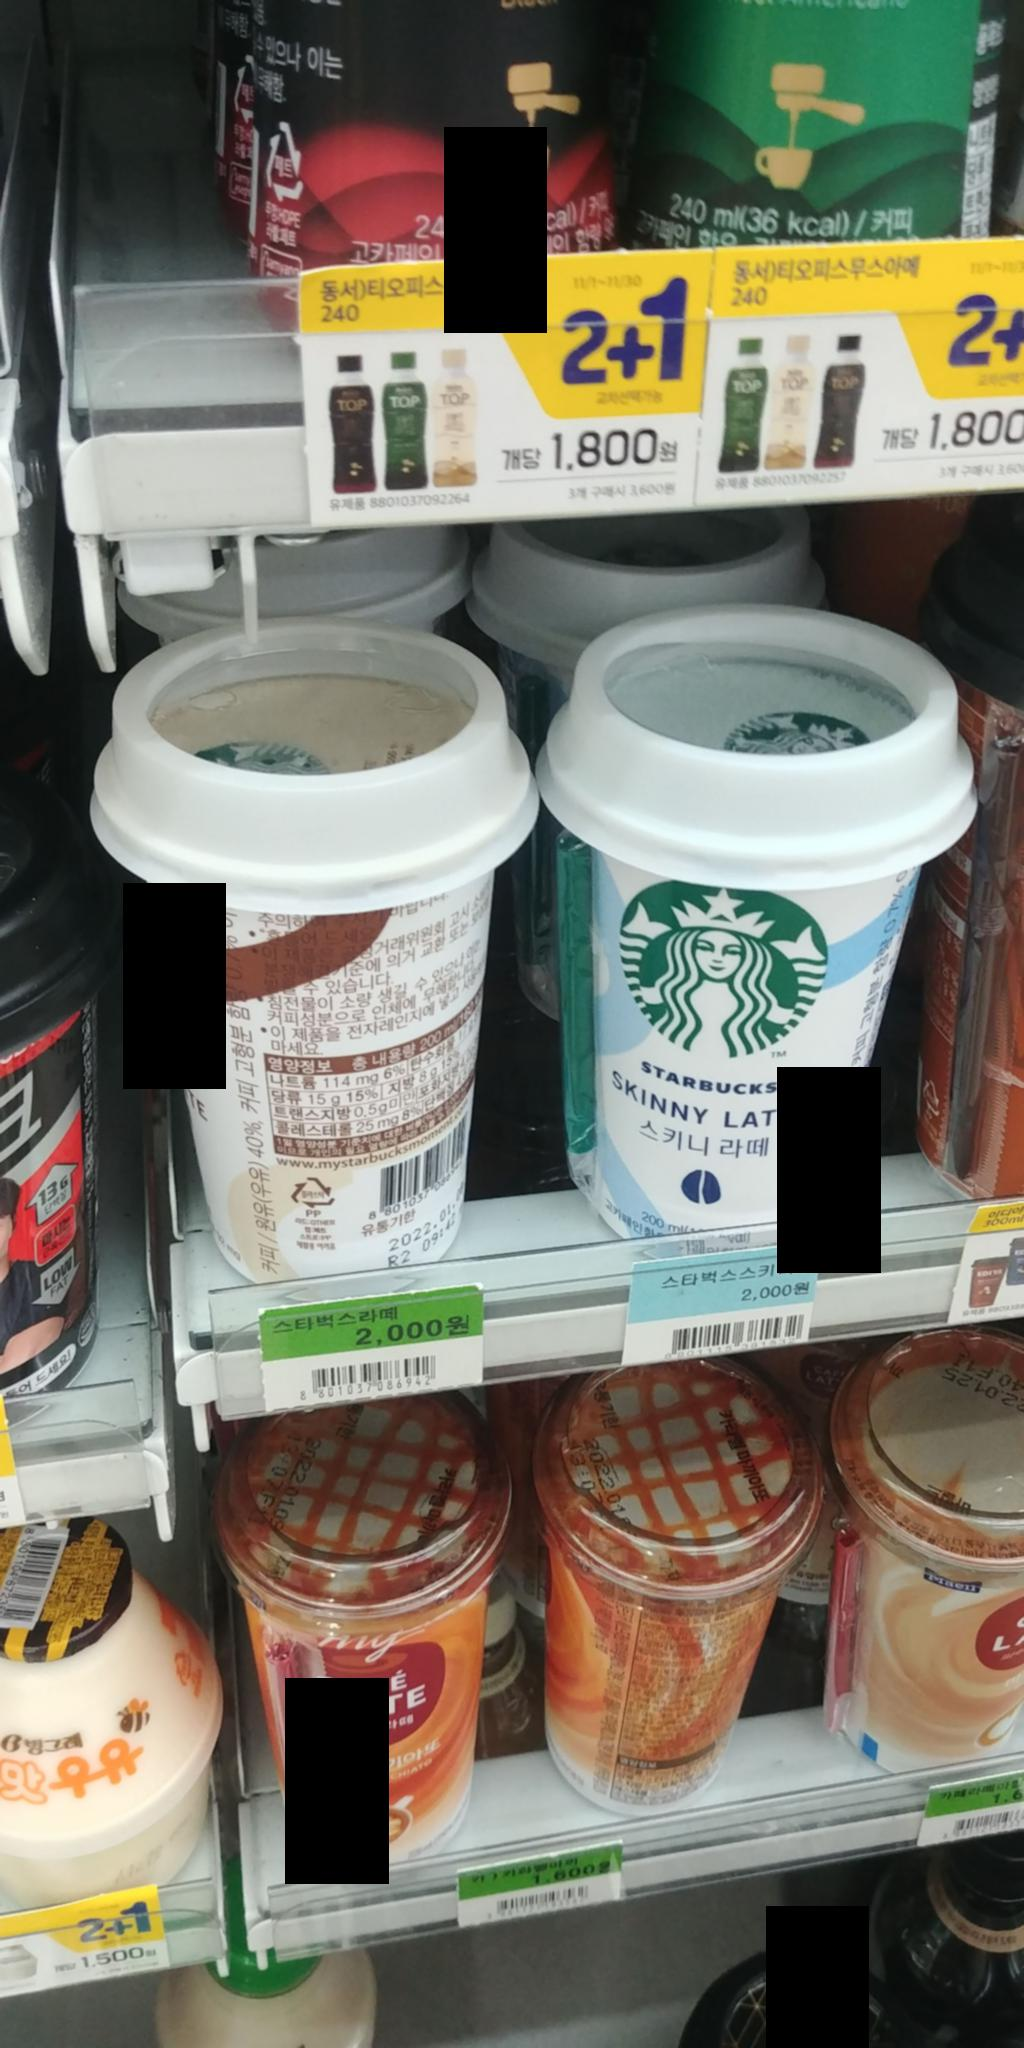starbucks_cafelatte: (80, 620, 554, 1294)
